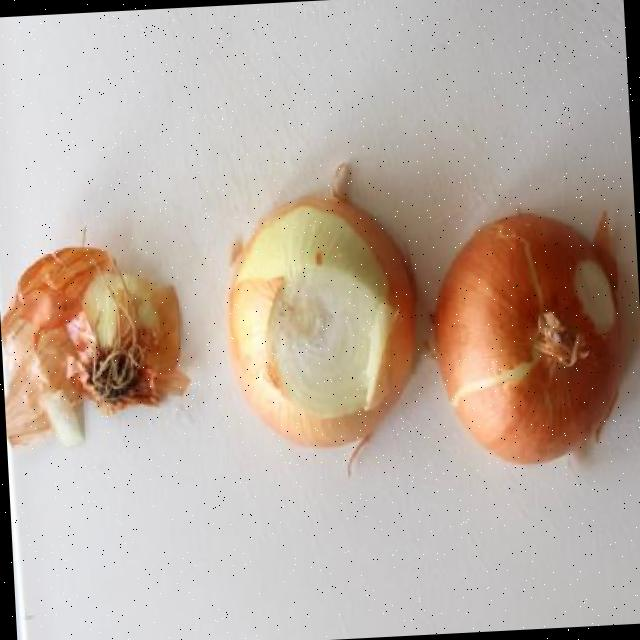Onion: (432, 213, 620, 464)
